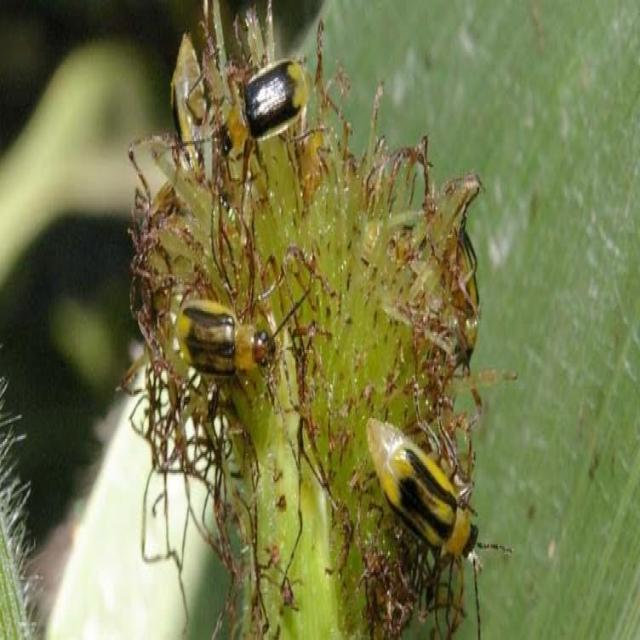trips: (367, 414, 514, 640), (168, 54, 310, 184), (176, 300, 280, 378)
